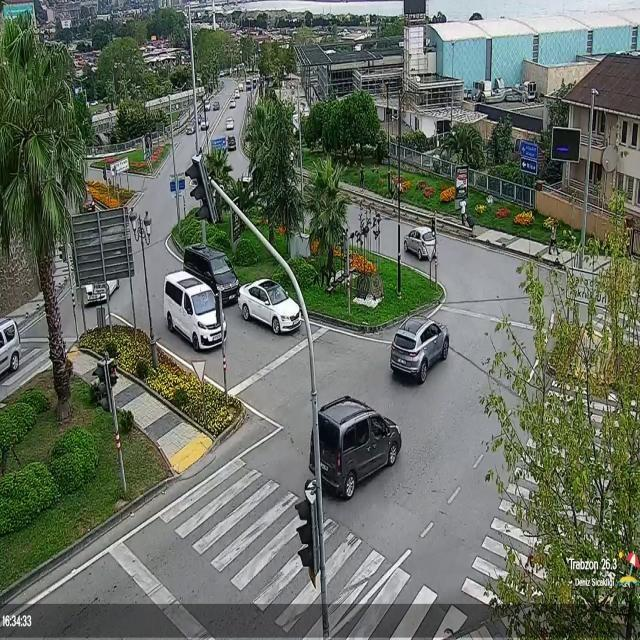Car: (311, 394, 403, 501), (388, 314, 448, 385), (237, 277, 301, 336), (404, 226, 438, 261), (225, 116, 235, 131), (200, 116, 210, 130), (228, 98, 237, 108), (203, 100, 210, 111)
Van: (161, 270, 229, 352), (183, 241, 240, 306)
